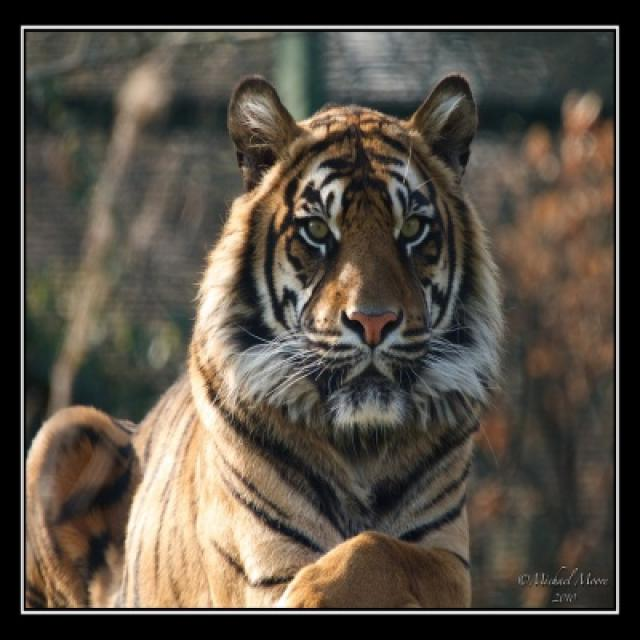Tiger: (32, 77, 489, 599)
